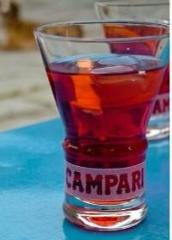glass: (34, 1, 172, 231)
